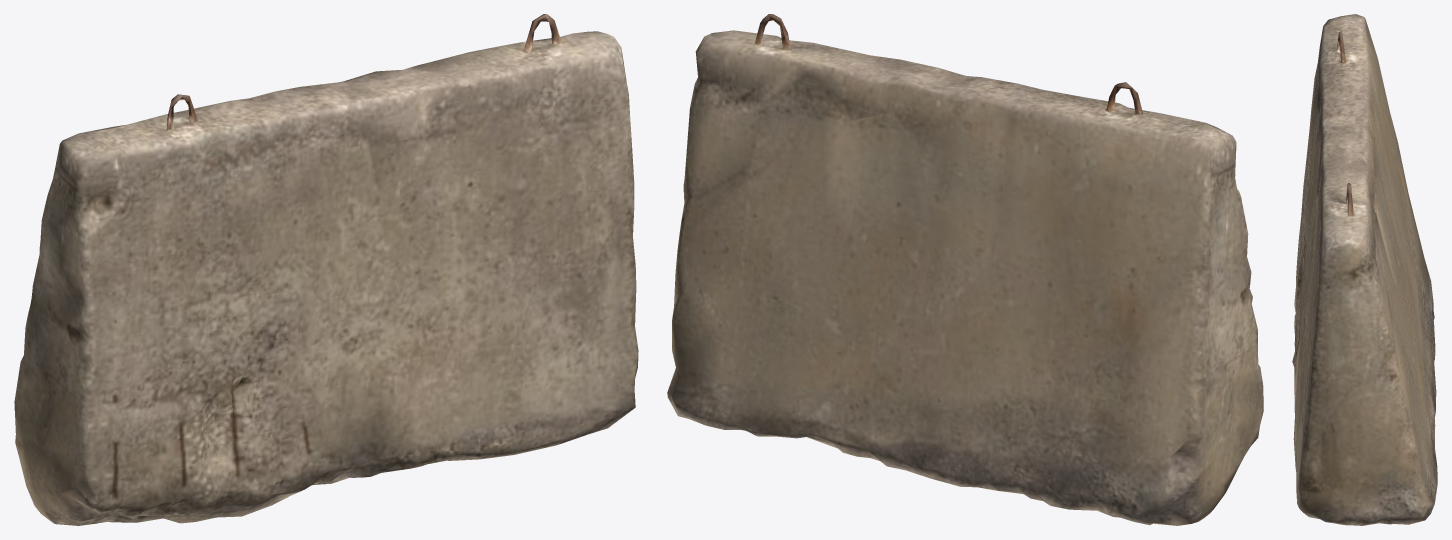
File: jersey_barrier.glb
3 views of the same model, side by side, from view 1: azimuth 30°, elevation 25°; view 2: azimuth 150°, elevation 25°; view 3: azimuth 270°, elevation 25° (orthographic). The views are drawn at different scales.
Visible parts, largest first — view 1: concrete_road_barrier_02; view 2: concrete_road_barrier_02; view 3: concrete_road_barrier_02.
Part boxes in pixels (x1,y1,x2,y2): concrete_road_barrier_02: (14,14,638,525); concrete_road_barrier_02: (667,14,1263,525); concrete_road_barrier_02: (1292,14,1437,525).
Size of the model in its own units: 1.56 by 1.11 by 0.4418.
1 material, 1 textured.
